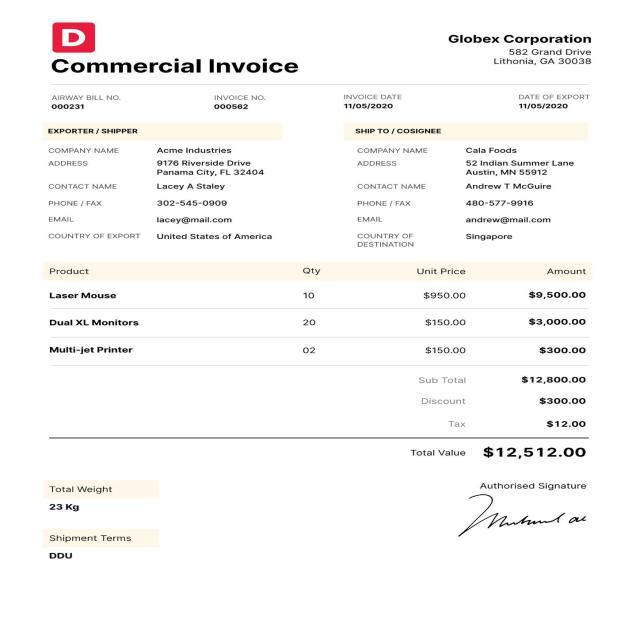paragraph: (339, 120, 600, 255), (30, 121, 299, 251), (400, 371, 613, 469), (26, 467, 187, 572), (441, 472, 618, 552), (428, 26, 605, 74), (37, 56, 331, 79), (506, 86, 597, 114), (34, 89, 126, 115), (198, 88, 286, 114), (330, 88, 420, 110)
table: (29, 256, 611, 366)
